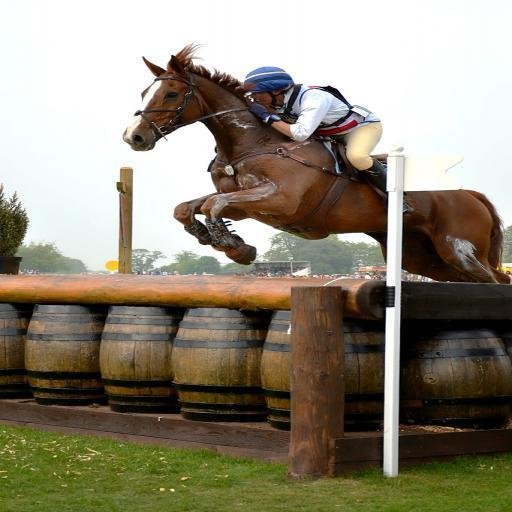horse: (120, 42, 512, 284)
